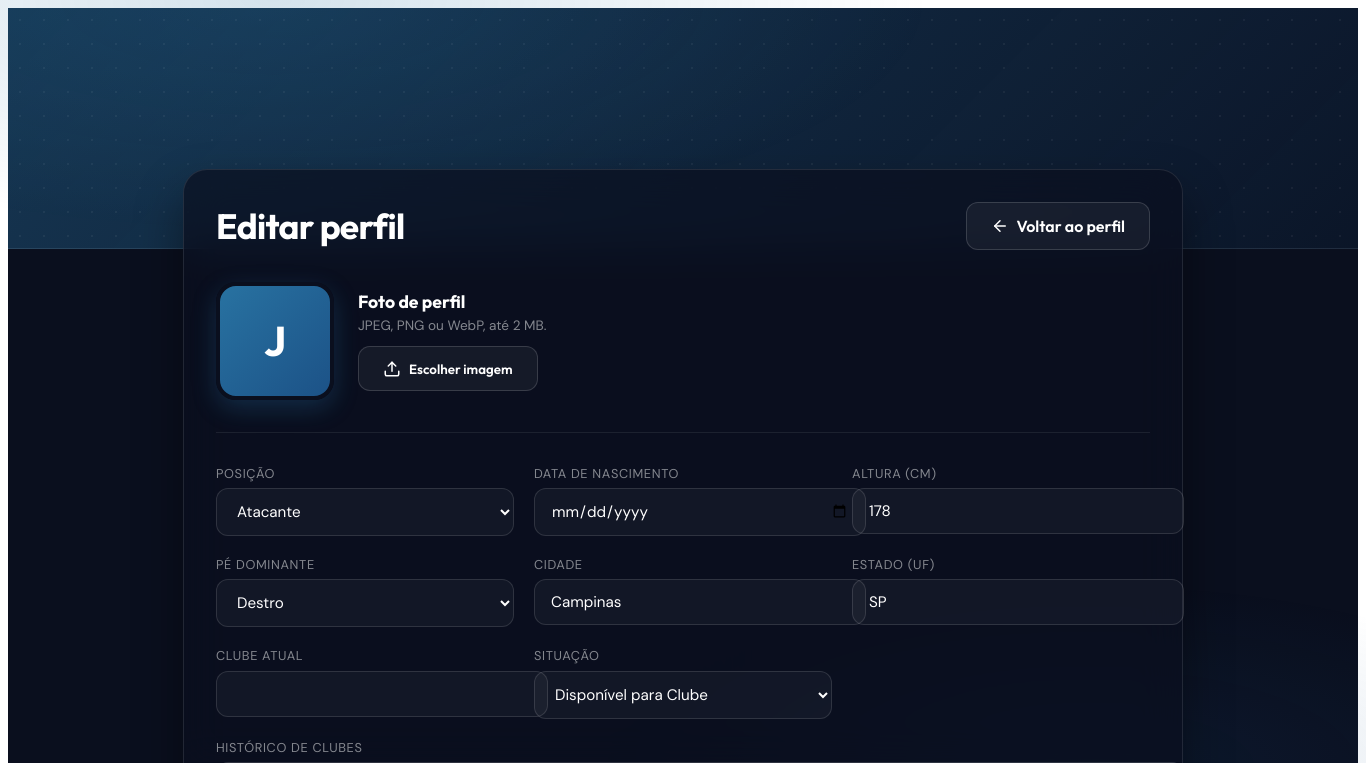
Test: EditProfile — salvamento parcial › mostra o erro do servidor em vez de fingir que salvou
Step 1. Type "999" into the number field labelled "Altura (cm)" → (1018, 511), box [852, 488, 1184, 534]
(page scrolled)
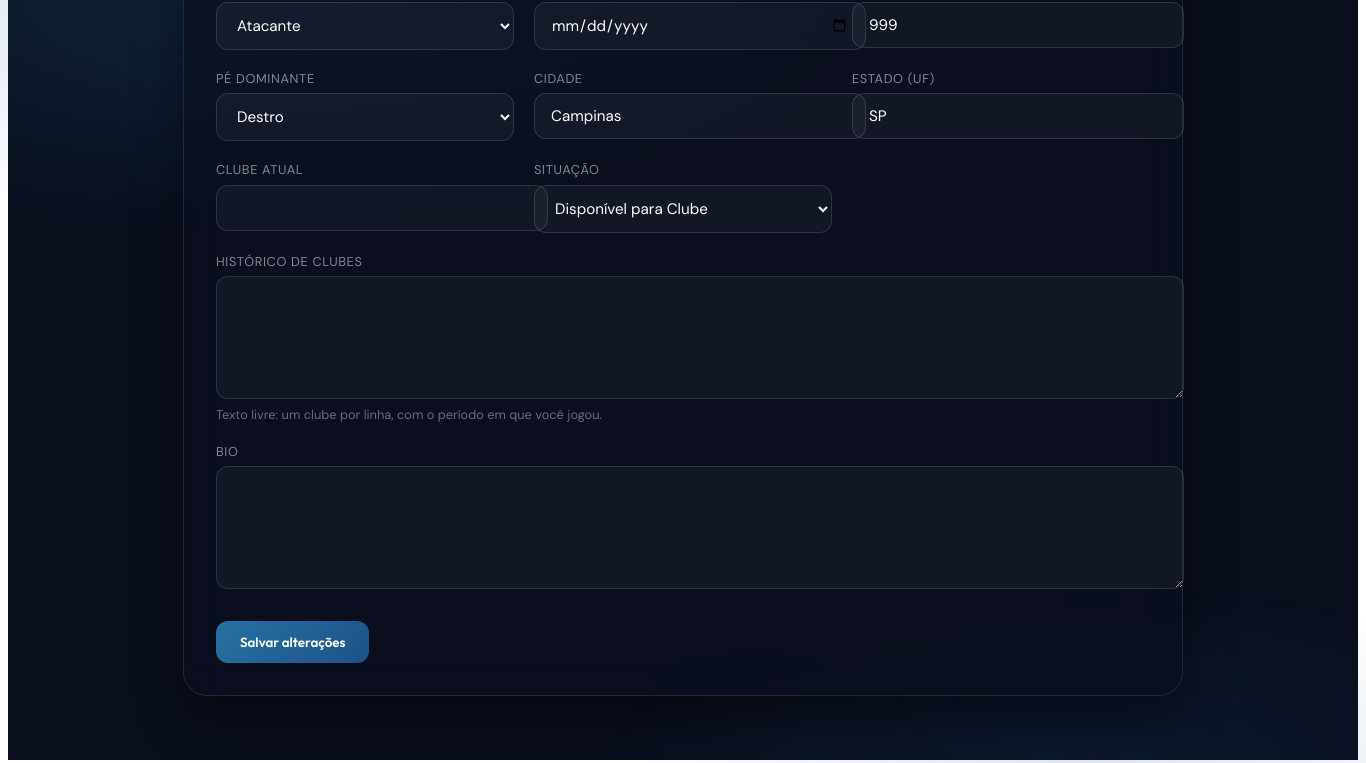
Step 2. Click the button "Salvar alterações" → (293, 642), box [216, 621, 369, 663]
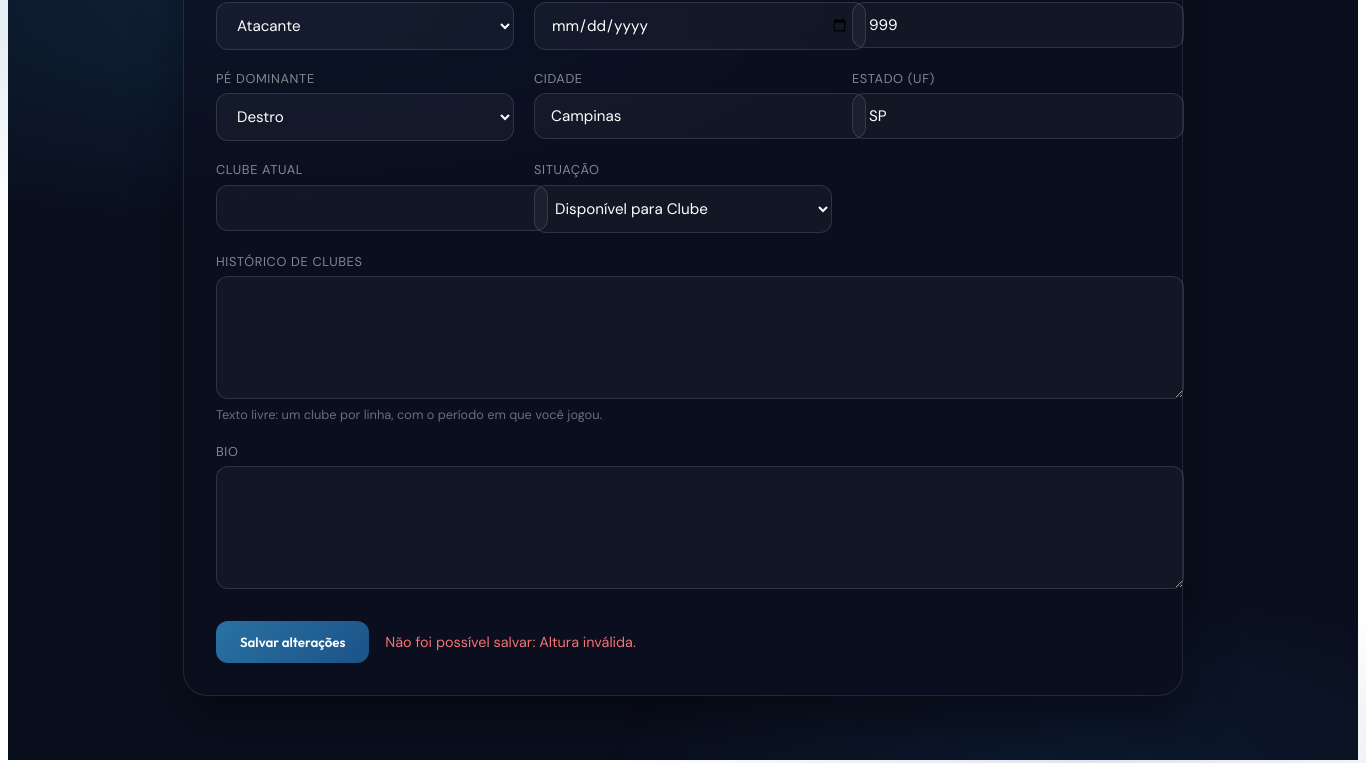
Expected: the text "Não foi possível salvar: Altura inválida." is shown, [385, 633, 636, 651]
